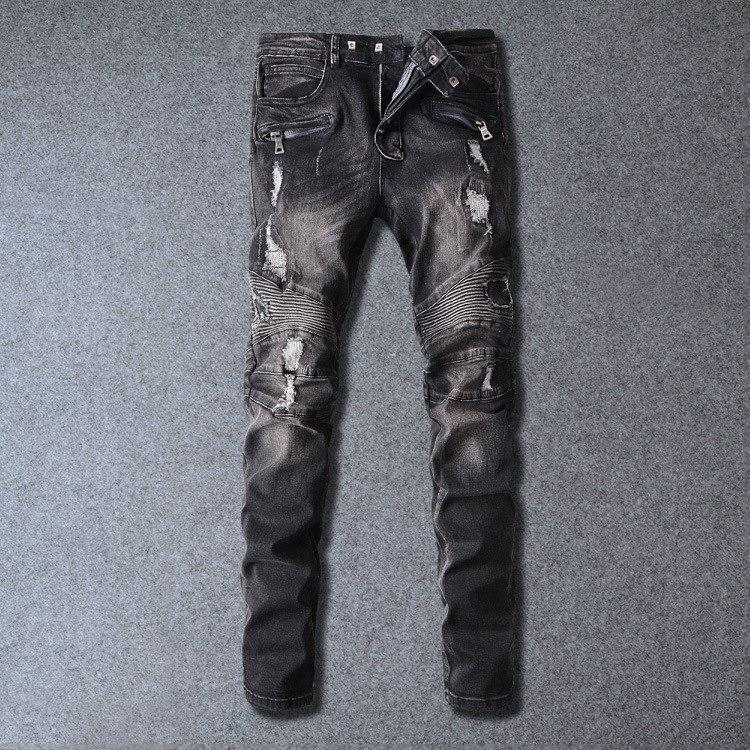jeans: (205, 20, 526, 723)
